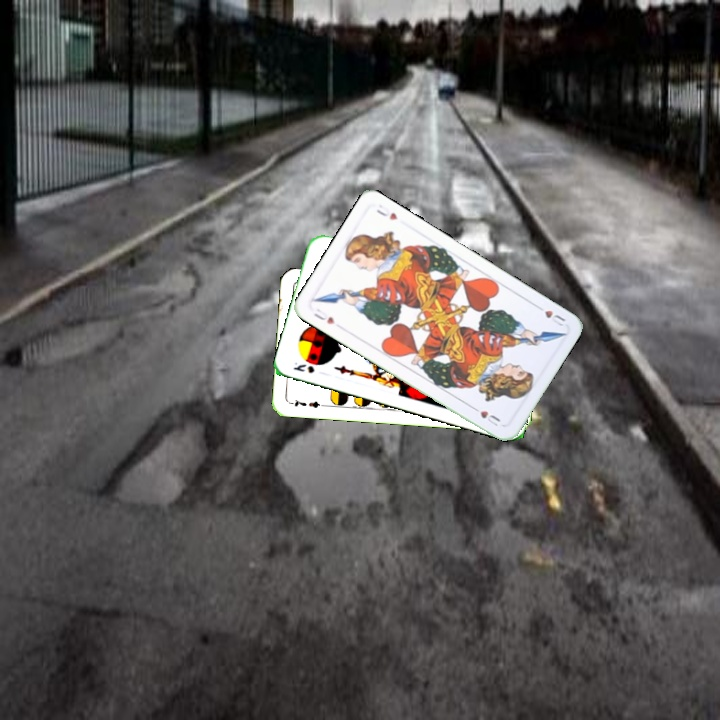E7: (286, 395, 327, 410)
HU: (532, 301, 568, 329), (310, 304, 337, 327)
SK: (289, 358, 317, 376)
